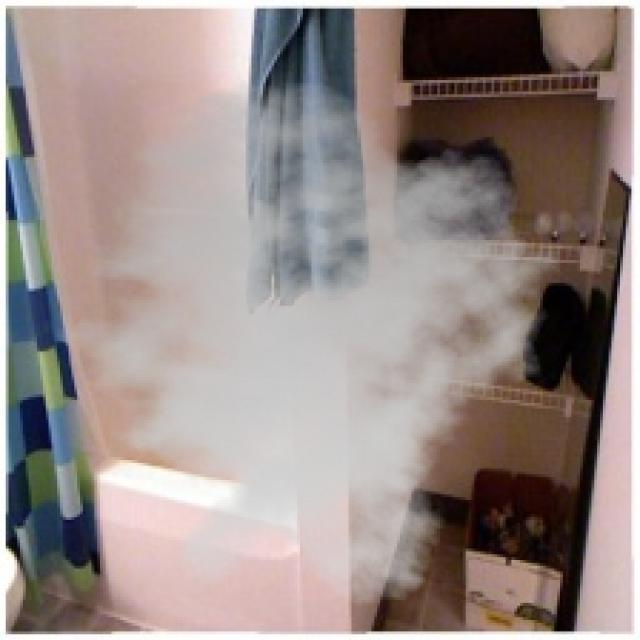Smoke: (32, 80, 574, 609)
